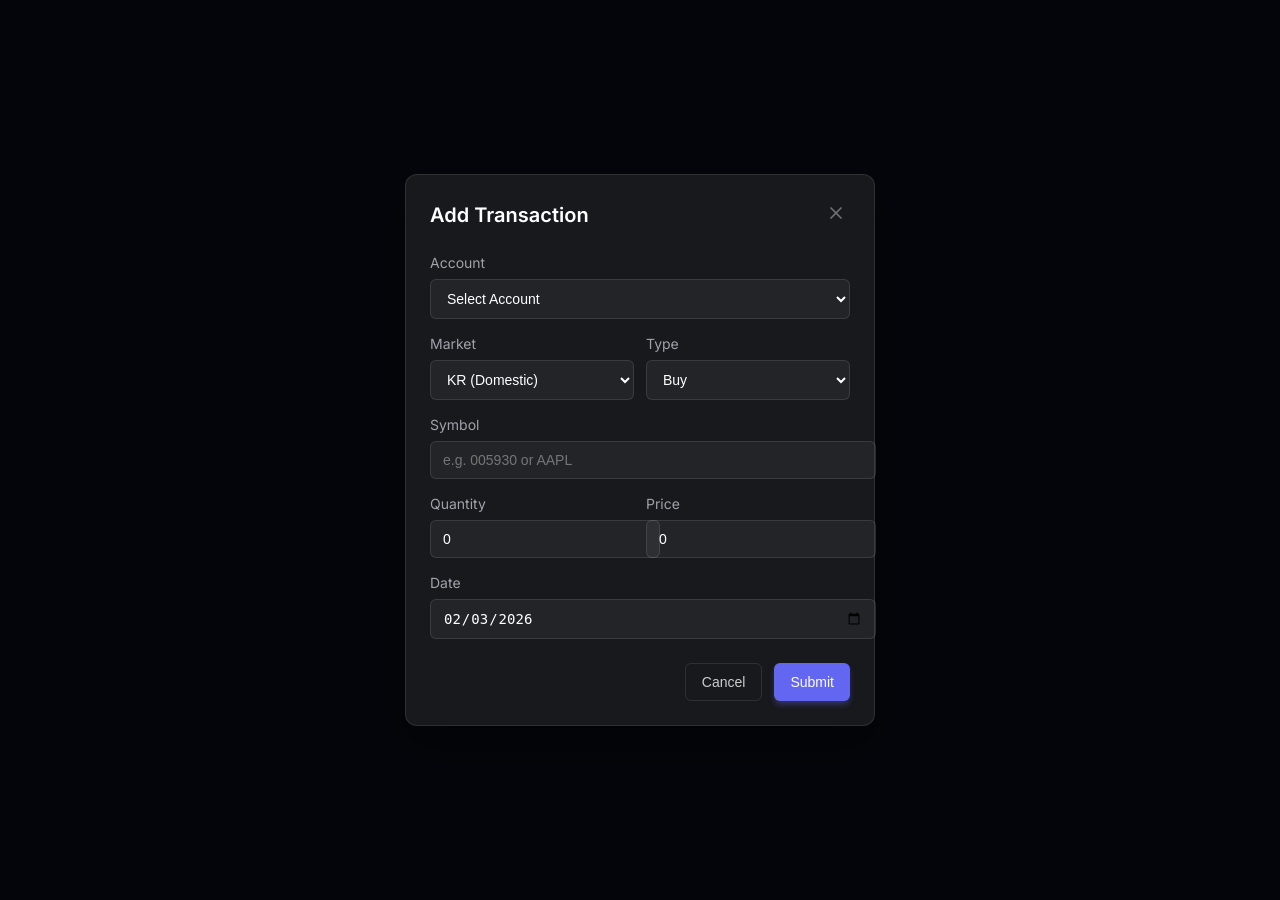
Test: TransactionFormModal › validates required fields
The image size is (1280, 900).
What coordinates should you click on to do the following:
click the button "Submit"
I would click on:
 (812, 682)
Its box is [774,663,850,701].
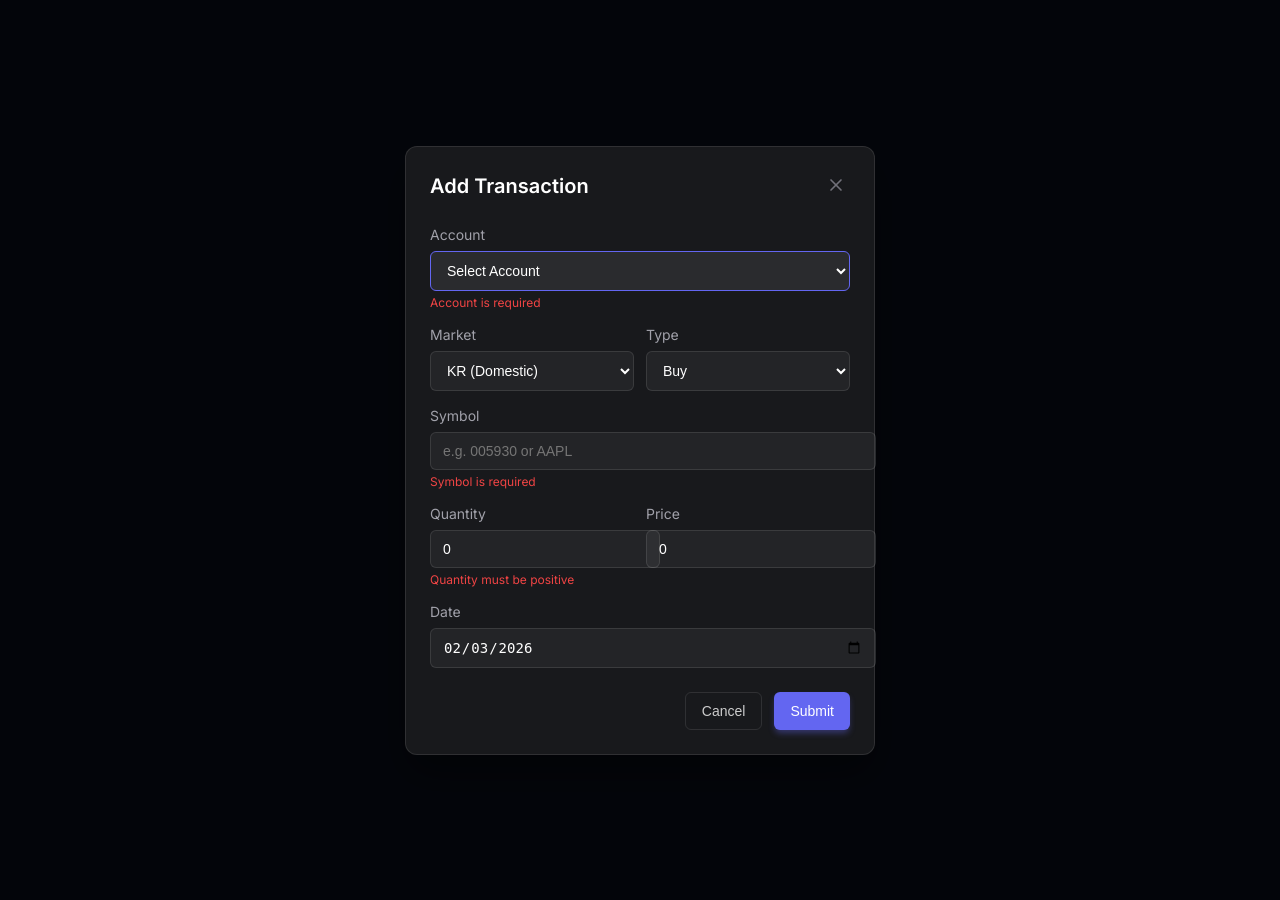
Expected: the text "Symbol is required" is shown, [430,474,536,488]
